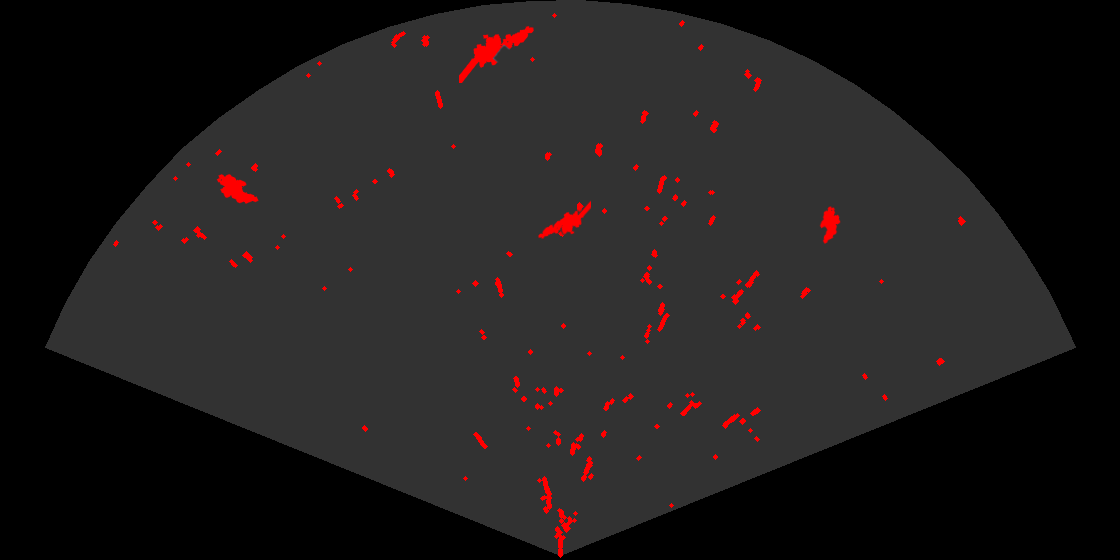AUV: (215, 172, 260, 205), (818, 205, 842, 245)
frogman: (459, 24, 535, 83), (536, 199, 591, 240)
